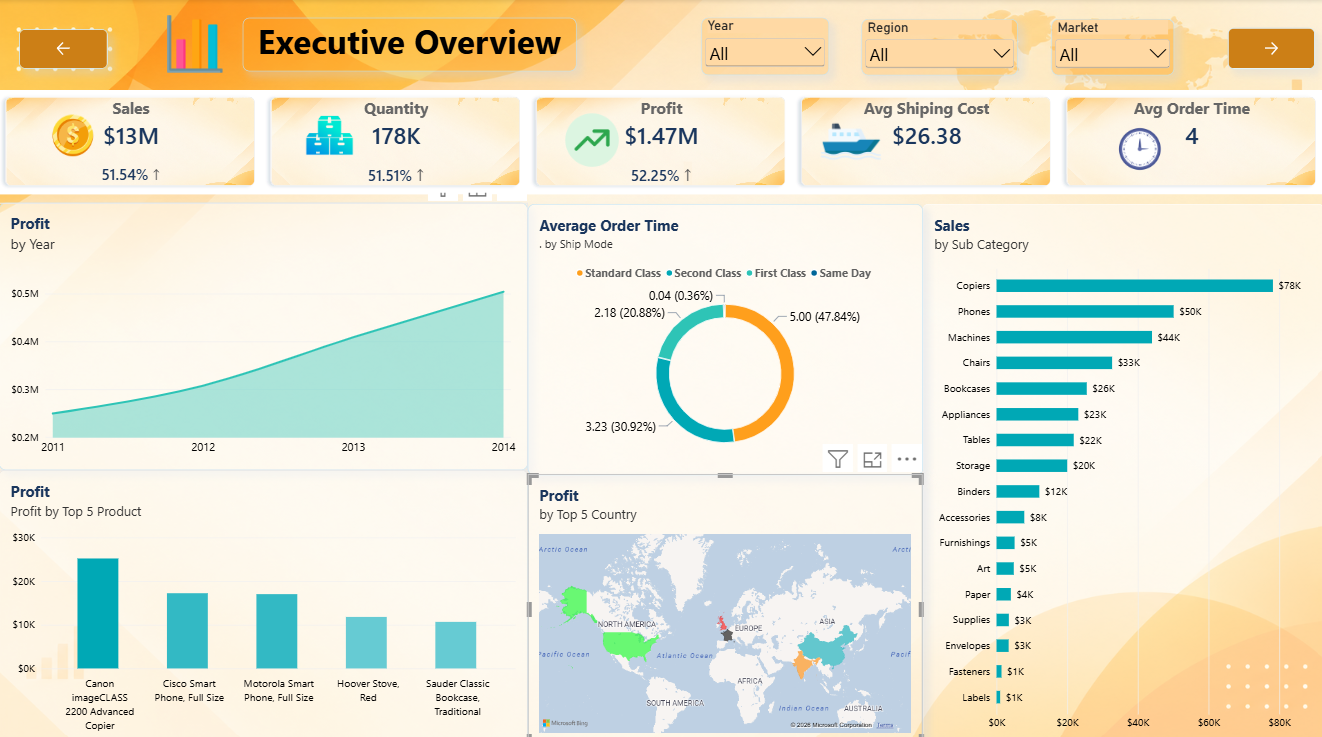

The dashboard page shown, as its layout file describes it:
{"tool":"powerbi","page":{"name":"Overview","canvas":[1920,1080],"ordinal":1},"visuals":[{"type":"cardVisual","fields":{"Data":["SuperStoreOrders.Total Sales","SuperStoreOrders.Total Quantity","SuperStoreOrders.Total Profit","SuperStoreOrders.Avg Shiping Cost","SuperStoreOrders.Average order time"]},"box":[0,132.1,1920.1,150.2],"z":0},{"type":"areaChart","fields":{"Category":["SuperStoreOrders.year"],"Y":["SuperStoreOrders.Total Profit"]},"box":[0,295,765.5,387.3],"z":1000},{"type":"clusteredColumnChart","title":"Profit","fields":{"Category":["SuperStoreOrders.product_name"],"Y":["SuperStoreOrders.Total Profit"]},"box":[0,681.9,765.5,398.1],"z":2000},{"type":"clusteredBarChart","title":"Sales","fields":{"Category":["SuperStoreOrders.sub_category"],"Y":["SuperStoreOrders.Total Sales"]},"box":[1337.3,296.5,582.2,783.5],"z":3000},{"type":"donutChart","title":"Average Order Time","fields":{"Category":["SuperStoreOrders.ship_mode"],"Y":["Avg(SuperStoreOrders. order time)"]},"box":[765.5,296.8,571.9,392.7],"z":4000},{"type":"filledMap","fields":{"Category":["SuperStoreOrders.country"]},"box":[765,688,572,392],"z":5000},{"type":"textbox","box":[353.8,27.9,483.2,77.8],"z":6000},{"type":"cardVisual","fields":{"Data":["SuperStoreOrders.Total Sales","SuperStoreOrders.Total Quantity","SuperStoreOrders.Total Profit","SuperStoreOrders.Avg Shiping Cost","SuperStoreOrders.Average order time"]},"box":[0,132.1,1920,148.8],"z":7000},{"type":"slicer","fields":{"Values":["SuperStoreOrders.year"]},"box":[1017,27.1,184.6,83.2],"z":8000},{"type":"slicer","fields":{"Values":["SuperStoreOrders.region"]},"box":[1248.7,29,226.2,81.4],"z":9000},{"type":"slicer","fields":{"Values":["SuperStoreOrders.market"]},"box":[1523.7,29,177.3,81.4],"z":10000},{"type":"image","box":[76.3,163.7,61.5,68.8],"z":11000},{"type":"image","box":[435.3,163.7,85.1,68.8],"z":12000},{"type":"image","box":[820.5,158.1,77.8,94.1],"z":13000},{"type":"image","box":[1175.8,163.7,114,86.9],"z":14000},{"type":"image","box":[1613,182.3,77.8,68.8],"z":15000},{"type":"image","box":[229,24.2,106.8,83.2],"z":16000},{"type":"actionButton","box":[1778.9,41.6,126.7,59.7],"z":17000},{"type":"actionButton","box":[29,43.4,128.5,57.9],"z":19000}]}

Visuals, with their boxes in screenshot pixels (x1, y1, x2, y2), scaled from the page's 1920x1080 canvas onto the 1322x737 screenshot:
cardVisual - SuperStoreOrders.Total Sales x SuperStoreOrders.Total Quantity: box=[0, 90, 1321, 193]
areaChart - SuperStoreOrders.year x SuperStoreOrders.Total Profit: box=[0, 201, 527, 466]
"Profit" clusteredColumnChart: box=[0, 465, 527, 736]
"Sales" clusteredBarChart: box=[921, 202, 1321, 736]
"Average Order Time" donutChart: box=[527, 203, 921, 471]
filledMap - SuperStoreOrders.country: box=[527, 469, 921, 736]
textbox: box=[244, 19, 576, 72]
cardVisual - SuperStoreOrders.Total Sales x SuperStoreOrders.Total Quantity: box=[0, 90, 1321, 192]
slicer - SuperStoreOrders.year: box=[700, 18, 827, 75]
slicer - SuperStoreOrders.region: box=[860, 20, 1016, 75]
slicer - SuperStoreOrders.market: box=[1049, 20, 1171, 75]
image: box=[53, 112, 95, 159]
image: box=[300, 112, 358, 159]
image: box=[565, 108, 619, 172]
image: box=[810, 112, 888, 171]
image: box=[1111, 124, 1164, 171]
image: box=[158, 17, 231, 73]
actionButton: box=[1225, 28, 1312, 69]
actionButton: box=[20, 30, 108, 69]
